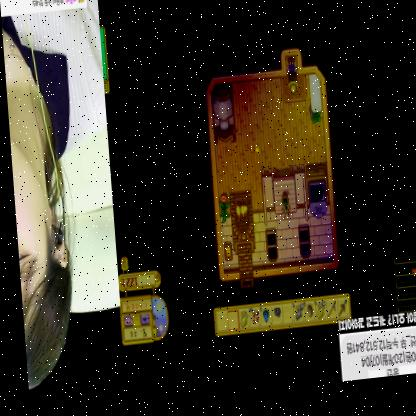streamer: (1, 0, 119, 390)
